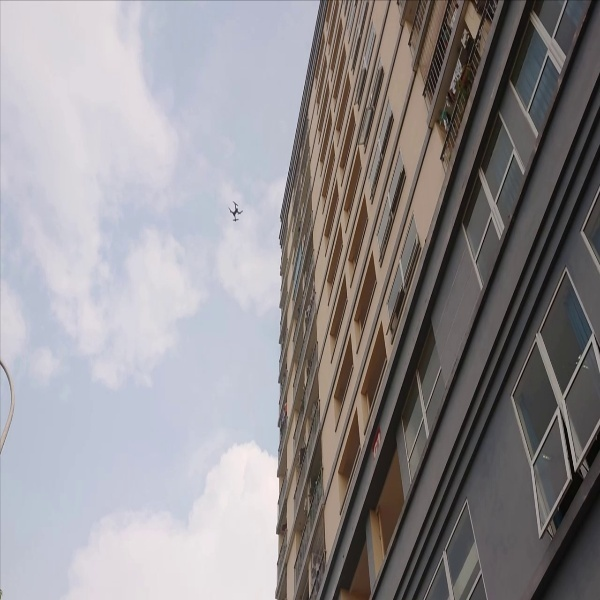drone: (223, 188, 250, 228)
